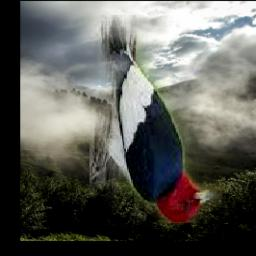Woodpecker: (90, 15, 222, 223)
